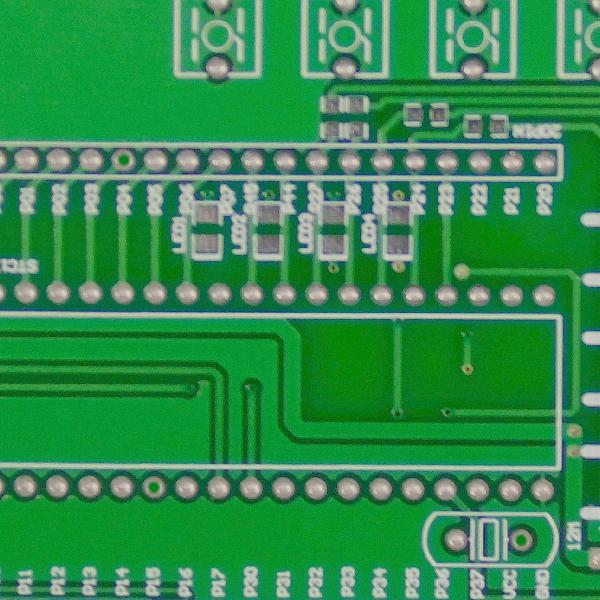missing_hole: (141, 470, 170, 502), (507, 526, 537, 556), (109, 148, 136, 173)
